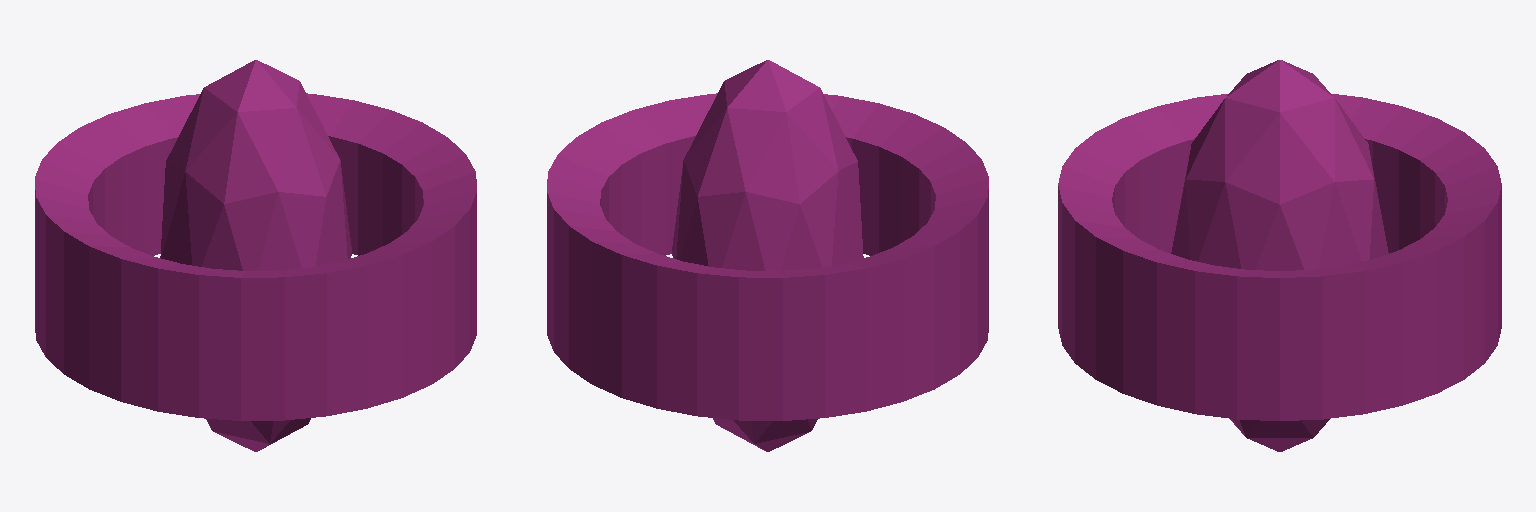
Rendered from GrainDS.obj.
The picture shows the model from 3 angles: view 1: azimuth 30°, elevation 25°; view 2: azimuth 150°, elevation 25°; view 3: azimuth 270°, elevation 25°; orthographic projection.
Visible parts, largest first — view 1: 円柱; view 2: 円柱; view 3: 円柱.
Part boxes in pixels (left/top/right/bottom): 円柱: left=35, top=60, right=476, bottom=451; 円柱: left=547, top=60, right=988, bottom=451; 円柱: left=1058, top=60, right=1501, bottom=451.
Size of the model in its own units: 1.14 by 1.12 by 1.14.